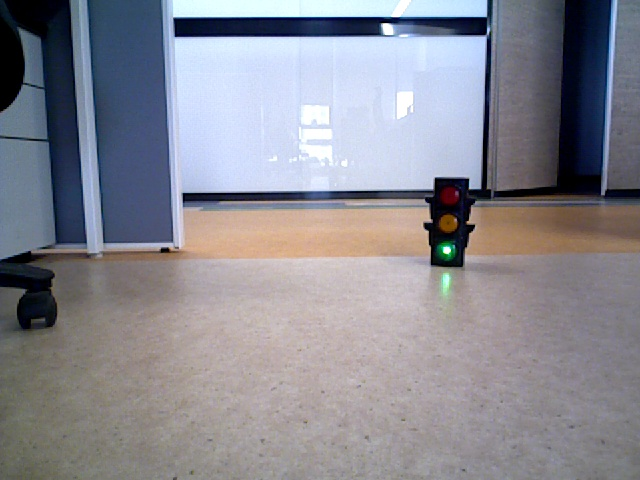green: (433, 178, 464, 262)
